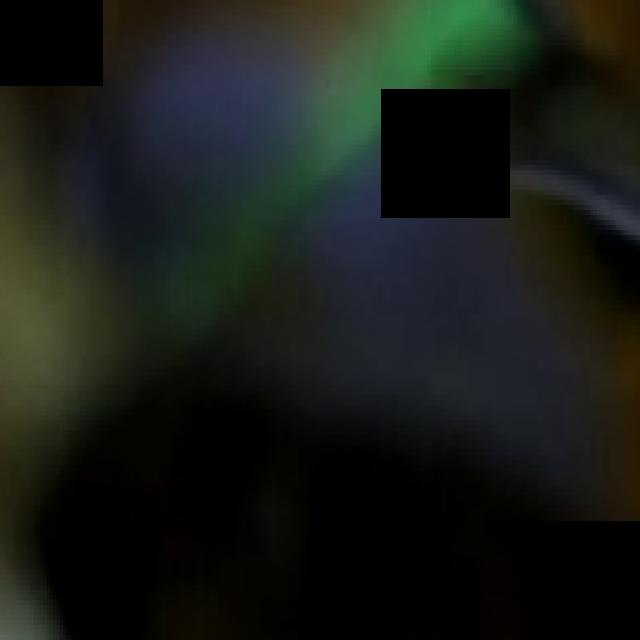fish: (3, 5, 640, 640)
